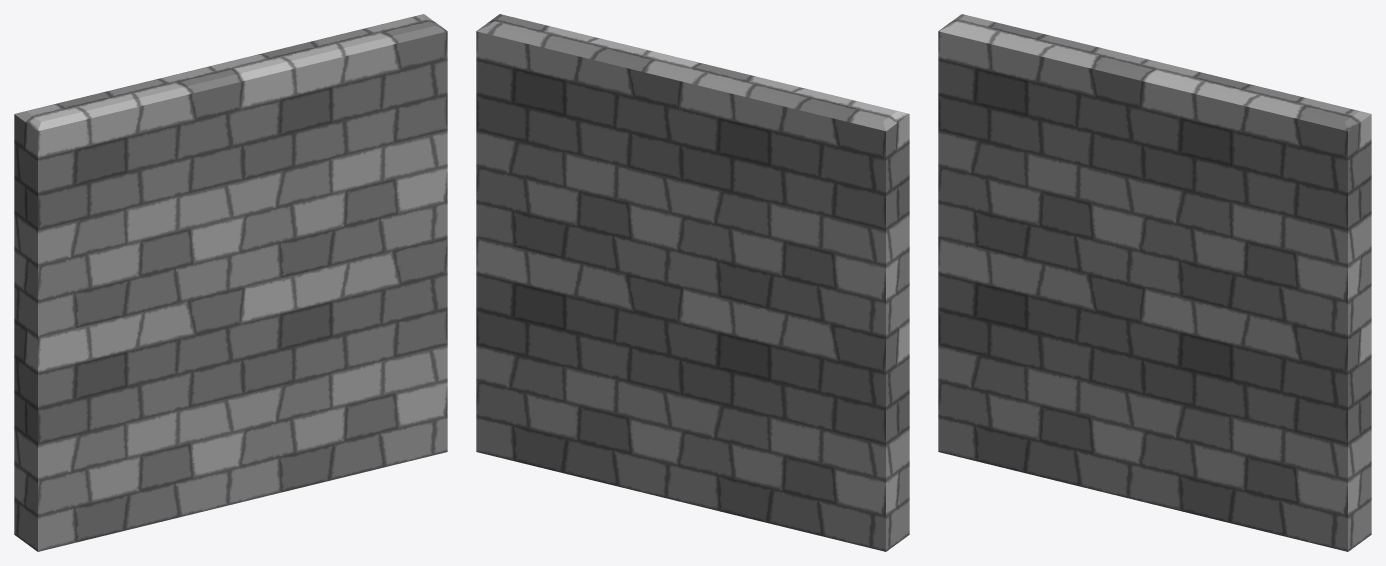
File: wall_double_height.glb
The picture shows the model from 3 angles, left to right: view 1: azimuth 30°, elevation 25°; view 2: azimuth 150°, elevation 25°; view 3: azimuth 330°, elevation 25°; orthographic projection.
Parts seen in each view (by area): view 1: WallDoubleHeight-convcol; view 2: WallDoubleHeight-convcol; view 3: WallDoubleHeight-convcol.
Boxes of the visible parts, x1,y1,x2,y2 form: WallDoubleHeight-convcol: (14, 14, 447, 551); WallDoubleHeight-convcol: (476, 14, 909, 551); WallDoubleHeight-convcol: (938, 14, 1371, 551).
Size of the model in its own units: 2 by 1.98 by 0.2.
Materials: 1 (1 with a texture image).
